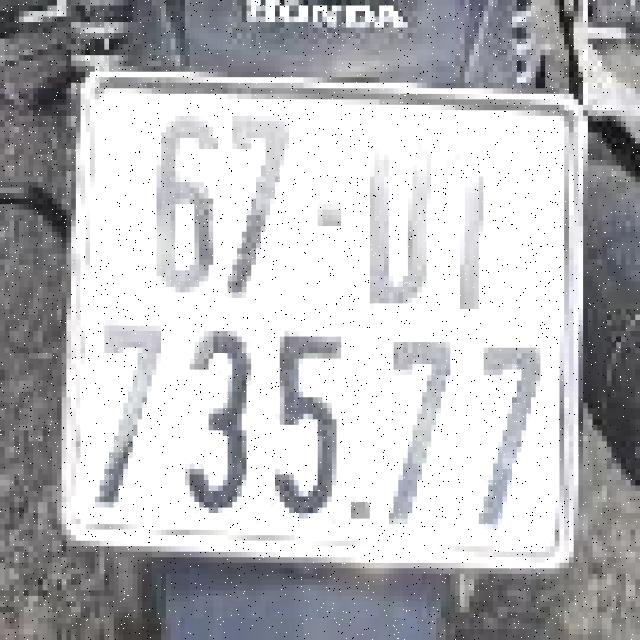1: (446, 121, 502, 320)
3: (170, 309, 260, 524)
5: (265, 317, 351, 527)
6: (140, 99, 230, 298)
7: (479, 320, 550, 557), (88, 296, 164, 510), (382, 328, 458, 538), (223, 107, 303, 300)
D: (358, 96, 448, 334)
